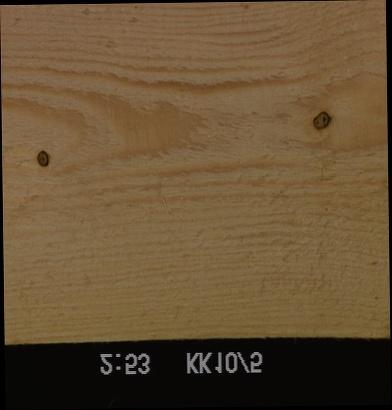dry_knot: (311, 109, 332, 130), (35, 148, 50, 168)
